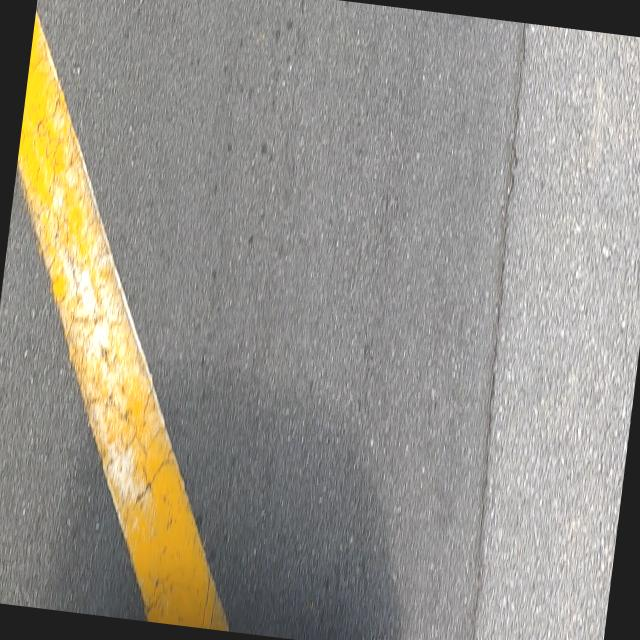Retak-Buaya: (17, 85, 172, 528)
Retak-Memanjang: (466, 22, 530, 640)
